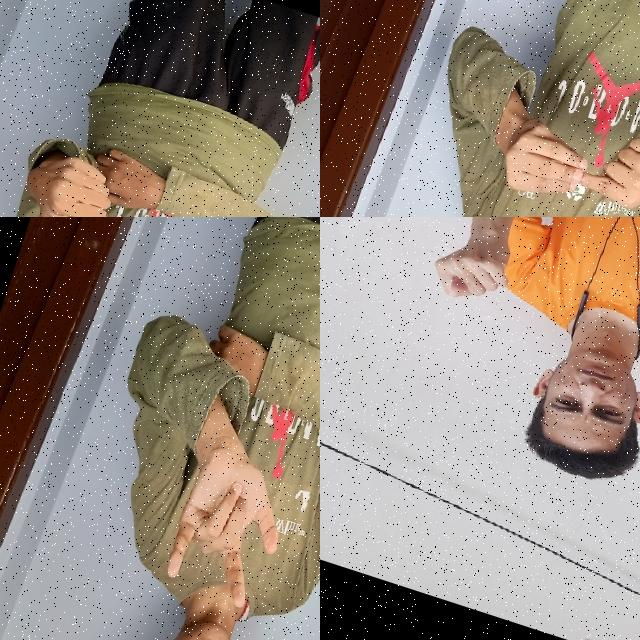Corna: (140, 424, 298, 616)
Dulya: (417, 217, 533, 325)
Five Fathers: (485, 83, 640, 217)
Thumbs Up: (4, 138, 128, 217)
